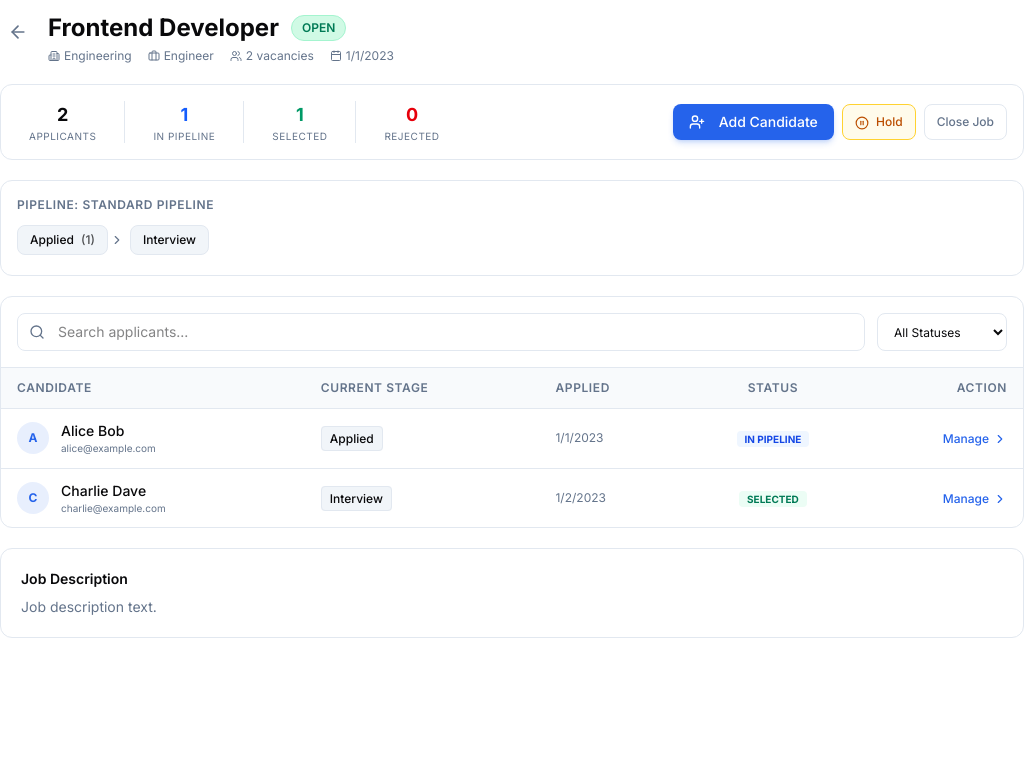
Job Detail Page › should filter applicants by stage
The image size is (1024, 780).
expect the text "Alice Bob" is shown: met, box [61, 422, 124, 439]
# Click 'Interview' stage tab
Click the button "Interview" at (169, 240), box [130, 225, 209, 255]
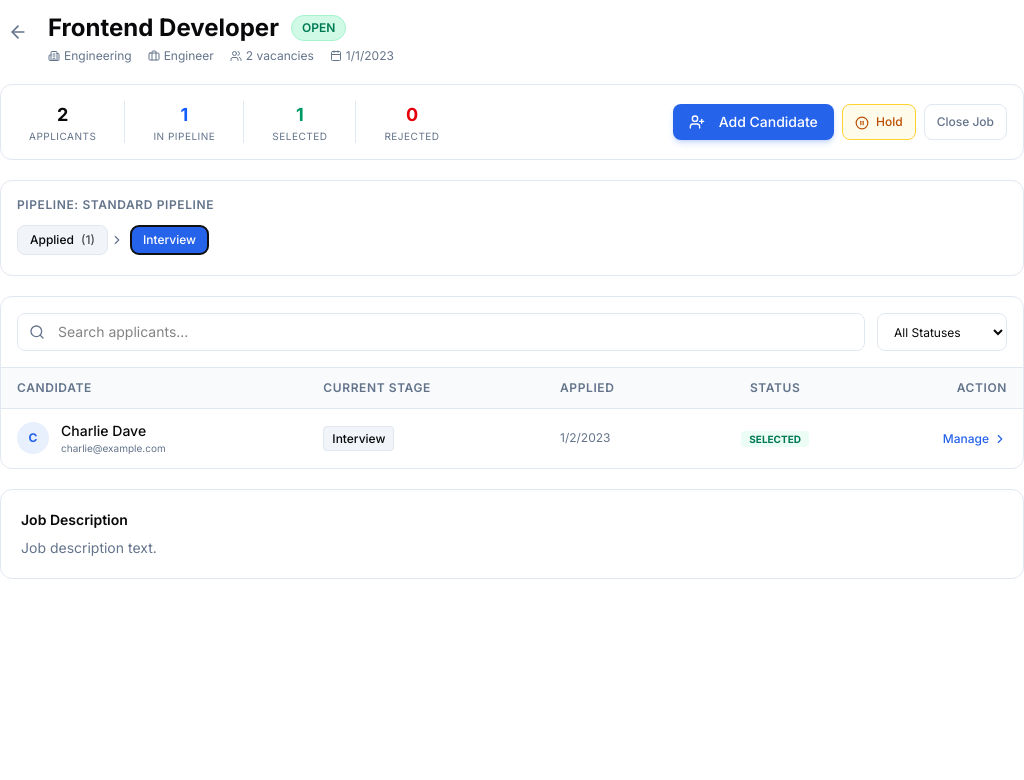
expect the text "Charlie Dave" is shown: met, box [61, 422, 146, 439]
expect the text "Alice Bob" is gone: met
